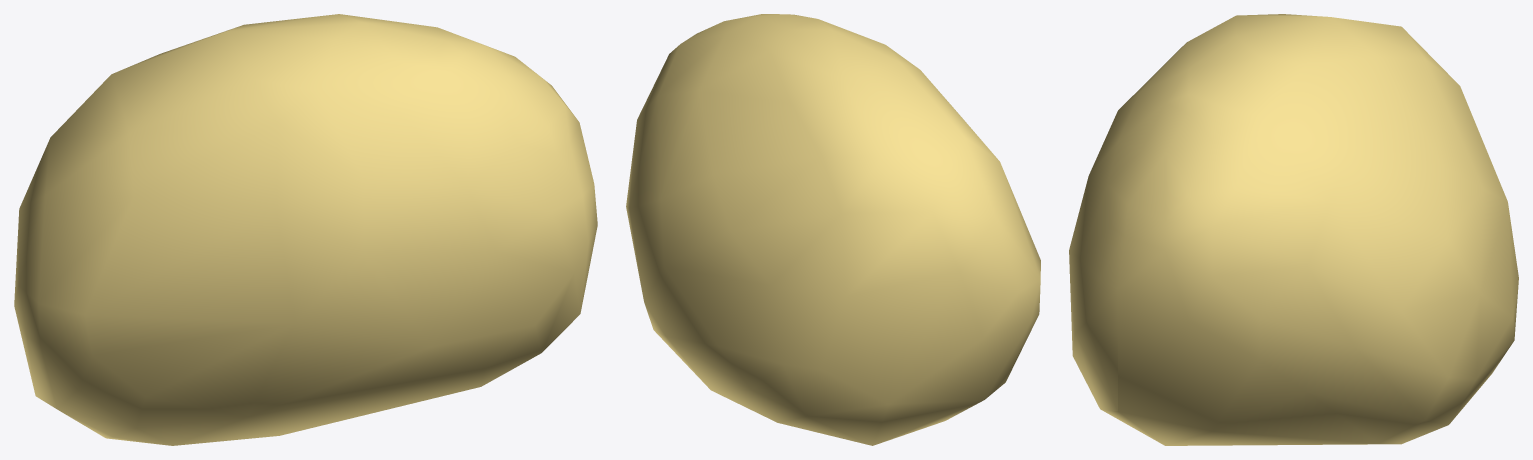
The model's file is fma73423.glb.
3 renders of one model, left to right at view 1: azimuth 30°, elevation 25°; view 2: azimuth 150°, elevation 25°; view 3: azimuth 270°, elevation 25°, orthographic. The views are drawn at different scales.
Parts seen in each view (by area): view 1: FMA73423; view 2: FMA73423; view 3: FMA73423.
Part boxes in pixels (x1,y1,x2,y2): FMA73423: (14, 14, 597, 445); FMA73423: (626, 14, 1040, 445); FMA73423: (1069, 14, 1518, 445).
Size of the model in its own units: 0.00744 by 0.00579 by 0.00576.
